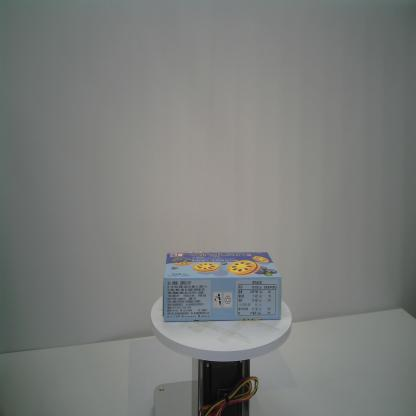Dessert: (162, 251, 282, 323)
